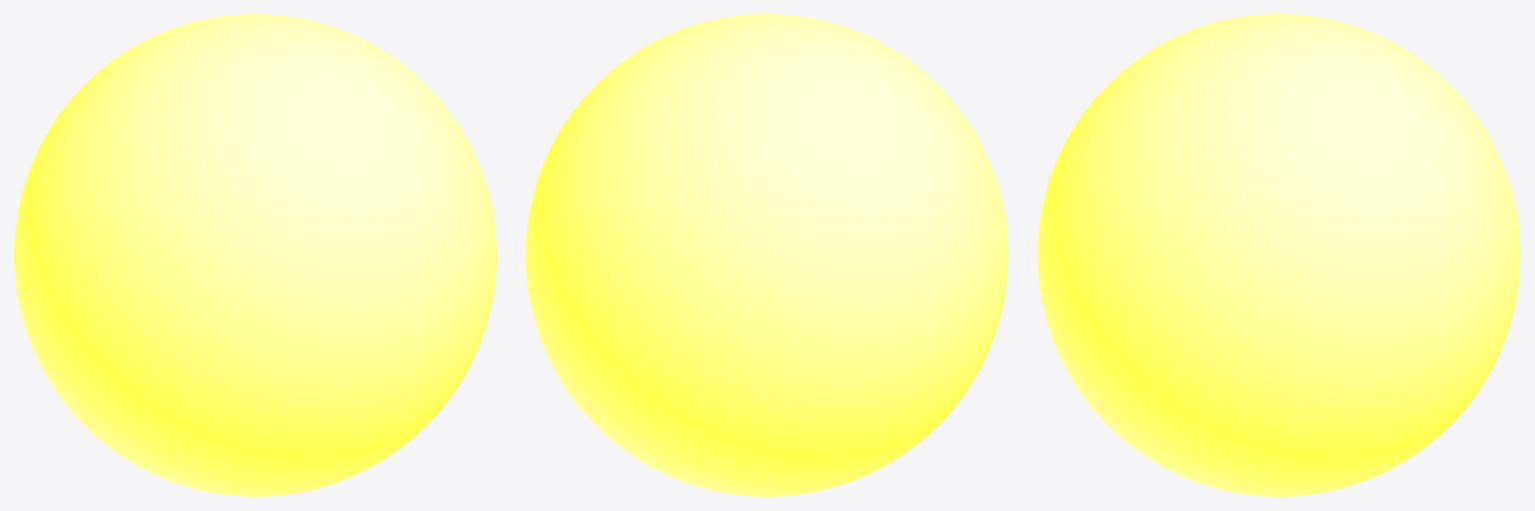
The model's file is retrowave loop sun.glb.
The picture shows the model from 3 angles, left to right: view 1: azimuth 30°, elevation 25°; view 2: azimuth 150°, elevation 25°; view 3: azimuth 270°, elevation 25°; orthographic projection.
Visible parts, largest first — view 1: Sphere; view 2: Sphere; view 3: Sphere.
Part boxes in pixels (x1,y1,x2,y2): Sphere: [14, 14, 496, 496]; Sphere: [525, 14, 1008, 496]; Sphere: [1037, 14, 1520, 496].
Size of the model in its own units: 185 by 185 by 185.
